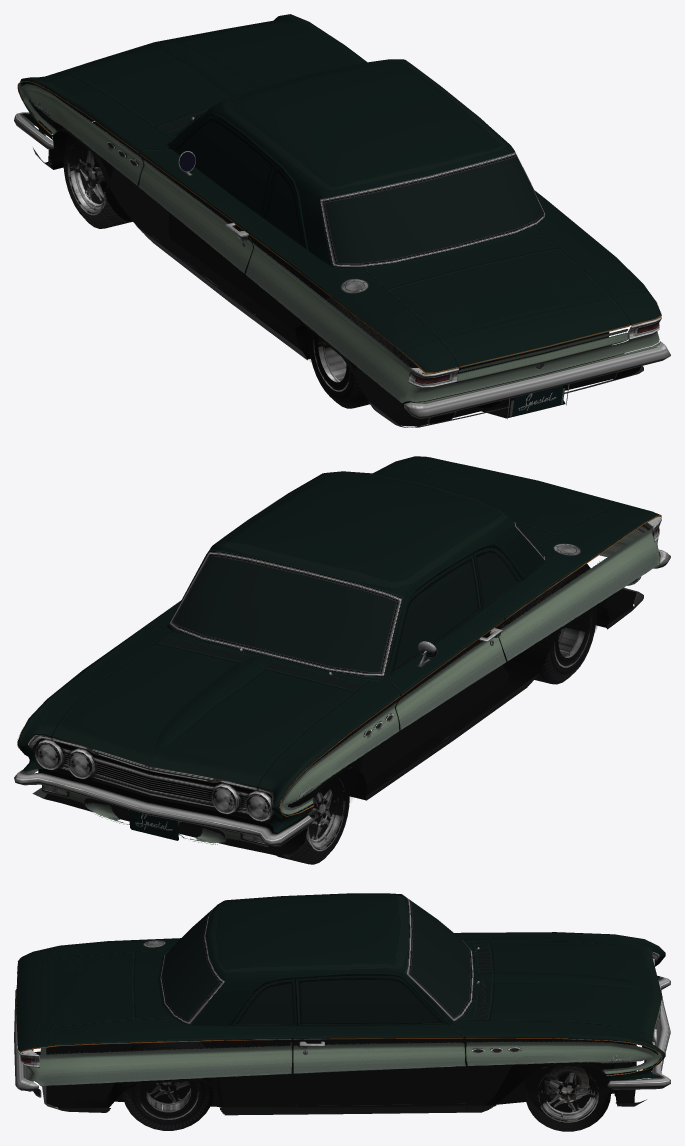
File: buic0002.glb
The picture shows the model from 3 angles, top to bottom: view 1: azimuth 30°, elevation 25°; view 2: azimuth 150°, elevation 25°; view 3: azimuth 270°, elevation 25°; orthographic projection. The views are drawn at different scales.
Parts seen in each view (by area): view 1: body, tire_rear_left, tire_front_left, wheel_front_left, wheel_rear_left; view 2: body, tire_rear_left, tire_front_left, wheel_front_left, wheel_rear_left; view 3: body, tire_rear_right, tire_front_right, wheel_front_right, wheel_rear_right.
Part boxes in pixels (x1,y1,x2,y2): body: (14, 14, 670, 427); tire_rear_left: (308, 296, 410, 408); tire_front_left: (63, 121, 132, 228); wheel_front_left: (67, 141, 107, 215); wheel_rear_left: (313, 334, 350, 391); body: (14, 456, 670, 858); tire_rear_left: (495, 572, 596, 684); tire_front_left: (277, 758, 349, 864); wheel_front_left: (306, 779, 345, 851); wheel_rear_left: (554, 618, 591, 667); body: (14, 893, 670, 1115); tire_rear_right: (122, 1041, 214, 1130); tire_front_right: (525, 1065, 611, 1131); wheel_front_right: (537, 1067, 598, 1122); wheel_rear_right: (137, 1081, 199, 1119).
Bounding box in the file's own units: 1.8 × 1.29 × 4.72.
Materials: 41 (41 with a texture image).
